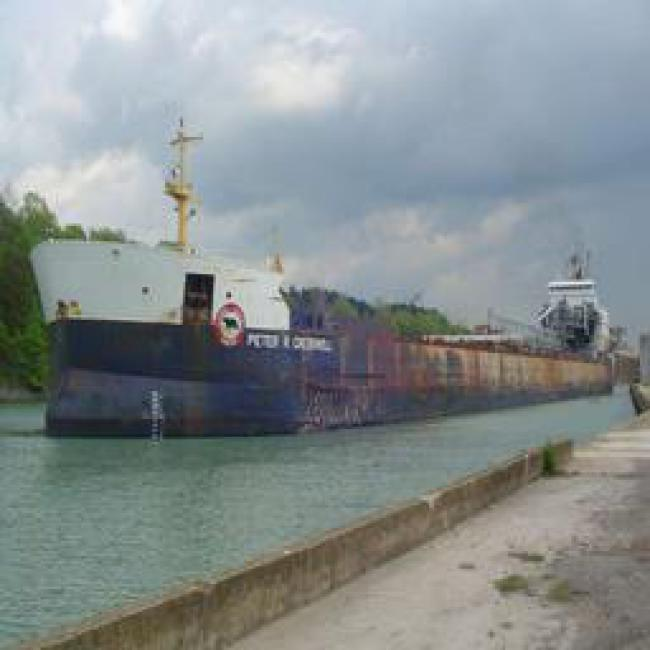Ship: (31, 220, 615, 417)
